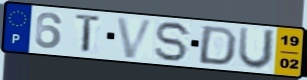6: (34, 11, 65, 51)
D: (196, 24, 240, 67)
S: (154, 20, 194, 63)
T: (73, 12, 104, 55)
U: (236, 25, 278, 71)
V: (114, 16, 157, 60)
